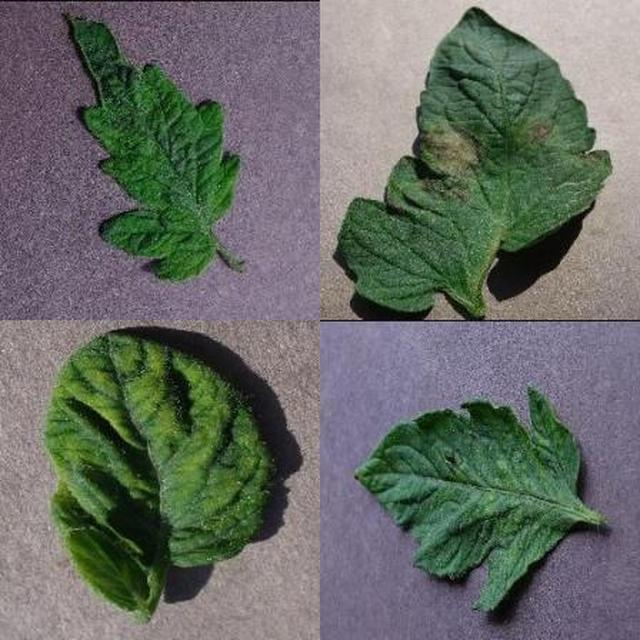Mosaic Virus Leaf: (221, 210, 640, 640)
